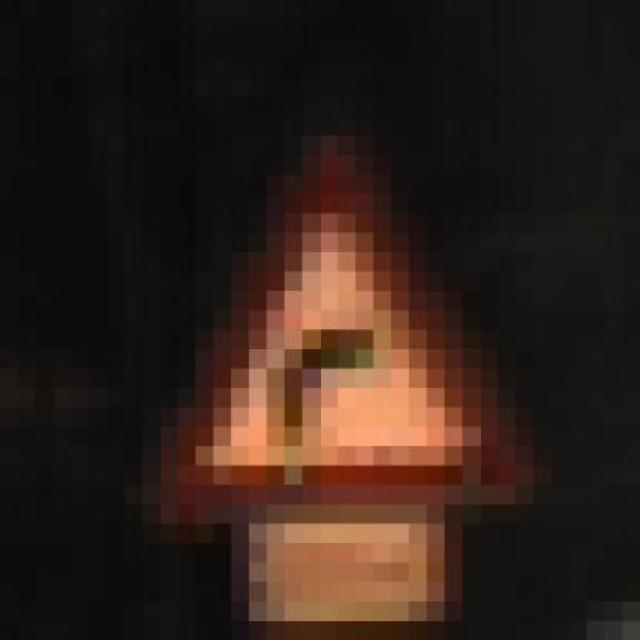Dangerous Rright Curve Ahead: (107, 116, 551, 524)
